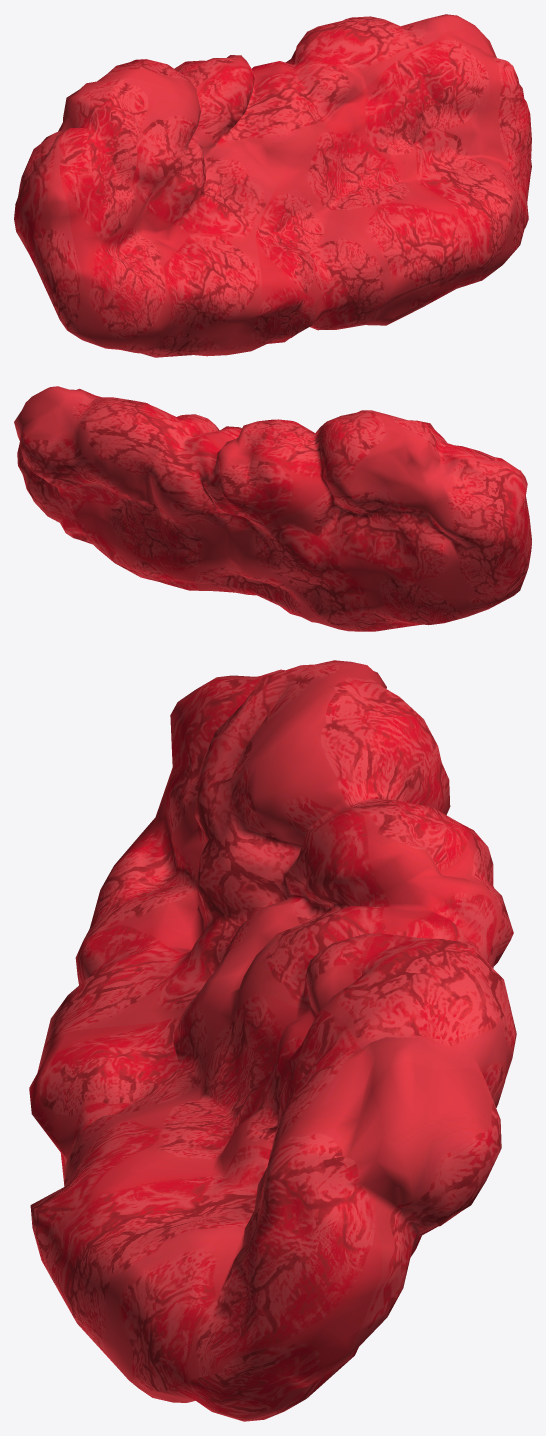
Rendered from SM_e_202_DemonMeatParts_02a.fbx.
The picture shows the model from 3 angles, top to bottom: view 1: azimuth 30°, elevation 25°; view 2: azimuth 150°, elevation 25°; view 3: azimuth 270°, elevation 25°; orthographic projection. The views are drawn at different scales.
Parts seen in each view (by area): view 1: SM_e_202_DemonMeatParts_02a.001; view 2: SM_e_202_DemonMeatParts_02a.001; view 3: SM_e_202_DemonMeatParts_02a.001.
Boxes of the visible parts, box(x1,y1,x2,y2) form: SM_e_202_DemonMeatParts_02a.001: box(14, 14, 531, 357); SM_e_202_DemonMeatParts_02a.001: box(14, 386, 531, 631); SM_e_202_DemonMeatParts_02a.001: box(29, 660, 516, 1421).
Bounding box in the file's own units: 10.34 × 5.06 × 4.55.
1 material, 1 textured.
